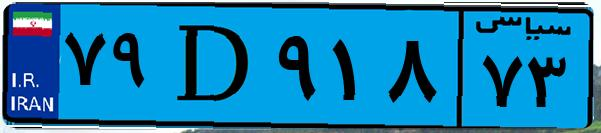1: (330, 28, 385, 110)
3: (525, 38, 570, 115)
7: (57, 26, 110, 100), (475, 38, 525, 113)
8: (385, 28, 445, 110)
9: (270, 28, 330, 110), (110, 28, 158, 98)
D: (158, 12, 270, 120)
